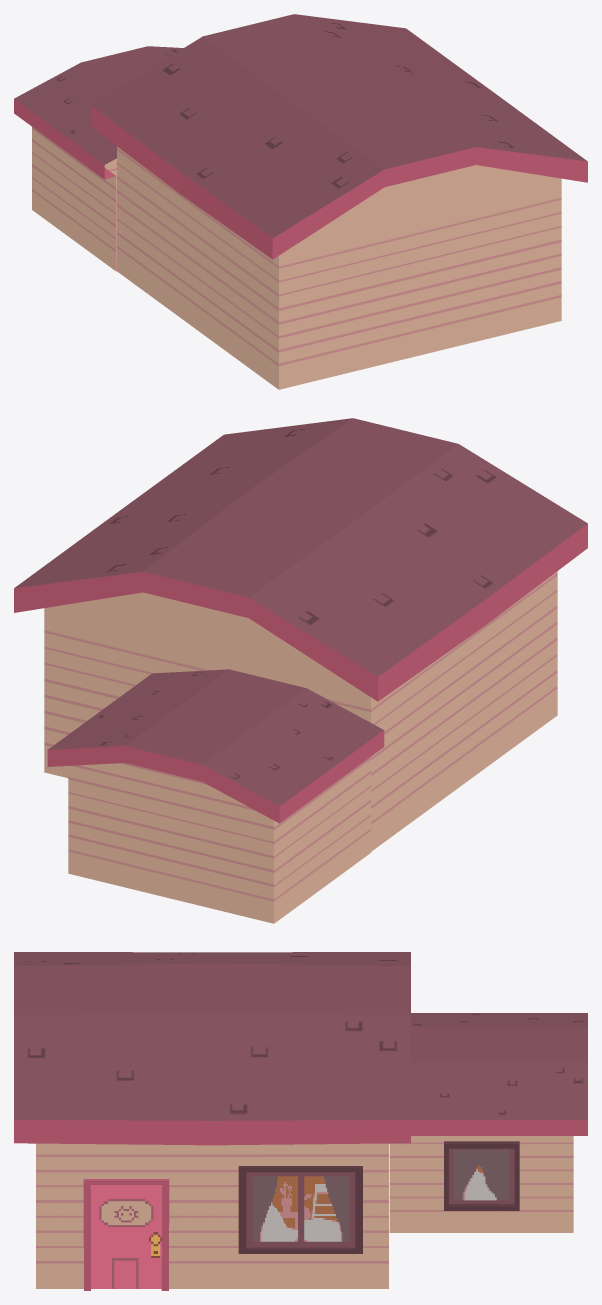
Rendered from cattyhouse.glb.
3 renders of one model, top to bottom at view 1: azimuth 30°, elevation 25°; view 2: azimuth 150°, elevation 25°; view 3: azimuth 270°, elevation 25°, orthographic. The views are drawn at different scales.
Parts seen in each view (by area): view 1: cattyhouse; view 2: cattyhouse; view 3: cattyhouse.
Boxes of the visible parts, x1=… form: cattyhouse: x1=14, y1=14, x2=587, y2=389; cattyhouse: x1=14, y1=418, x2=587, y2=923; cattyhouse: x1=14, y1=952, x2=587, y2=1290.
Bounding box in the file's own units: 8.88 × 5.52 × 12.77.
Materials: 1 (1 with a texture image).
